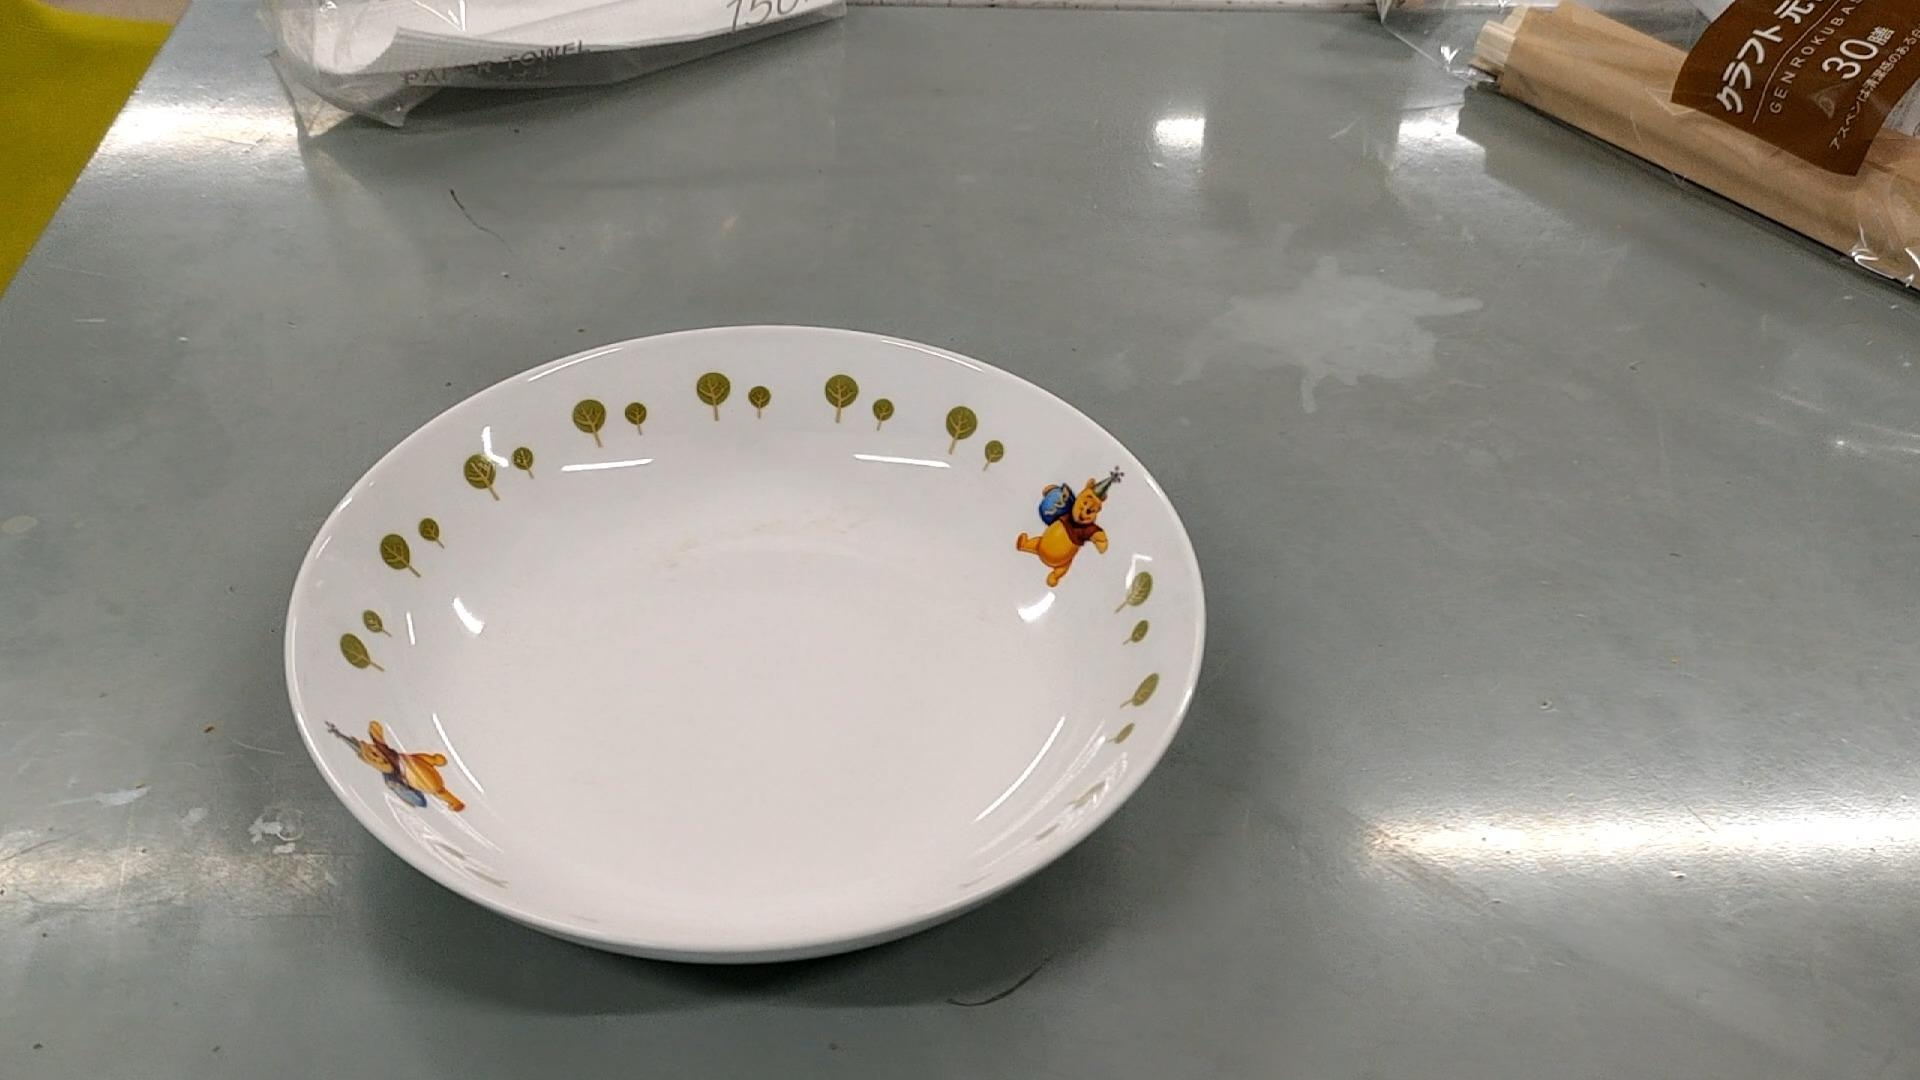plate: (287, 320, 1203, 968)
